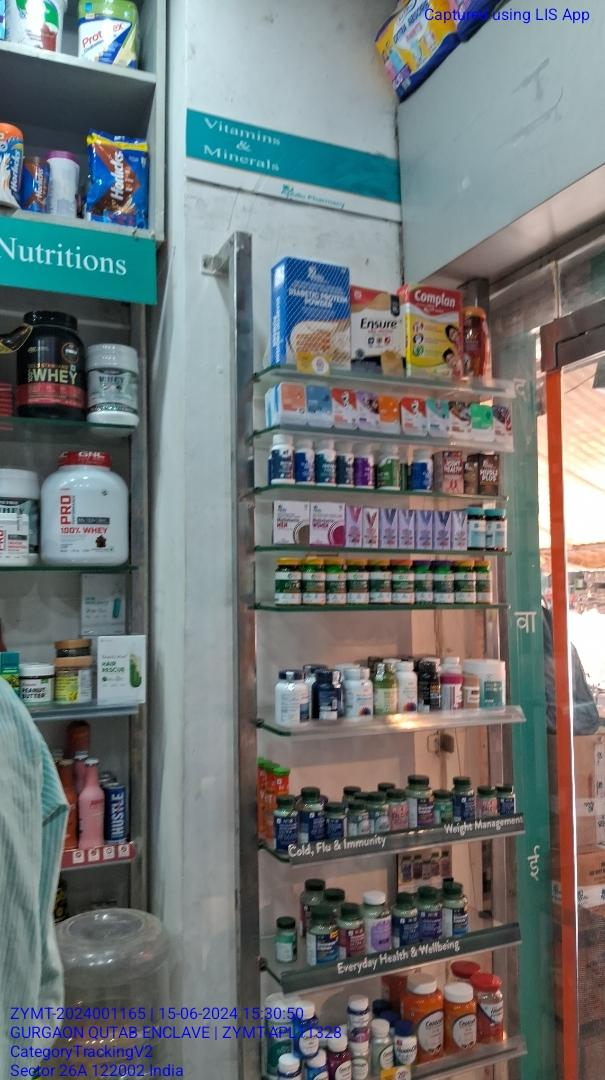COMPLAN_CHOCOLATE_200_GMS_JAR: (24, 157, 50, 211)
COMPLAN_KESAR_BADAM_500_GMS_PACK: (408, 287, 461, 376)
ENSURE_VANILLA_400_G_PACK: (352, 290, 401, 378)
HORLICK_CHOCOLATE_750_G_POUCH: (87, 132, 146, 226)
HORLICK_CLASSIC_MALT_500_G_JAR: (0, 121, 22, 207)
